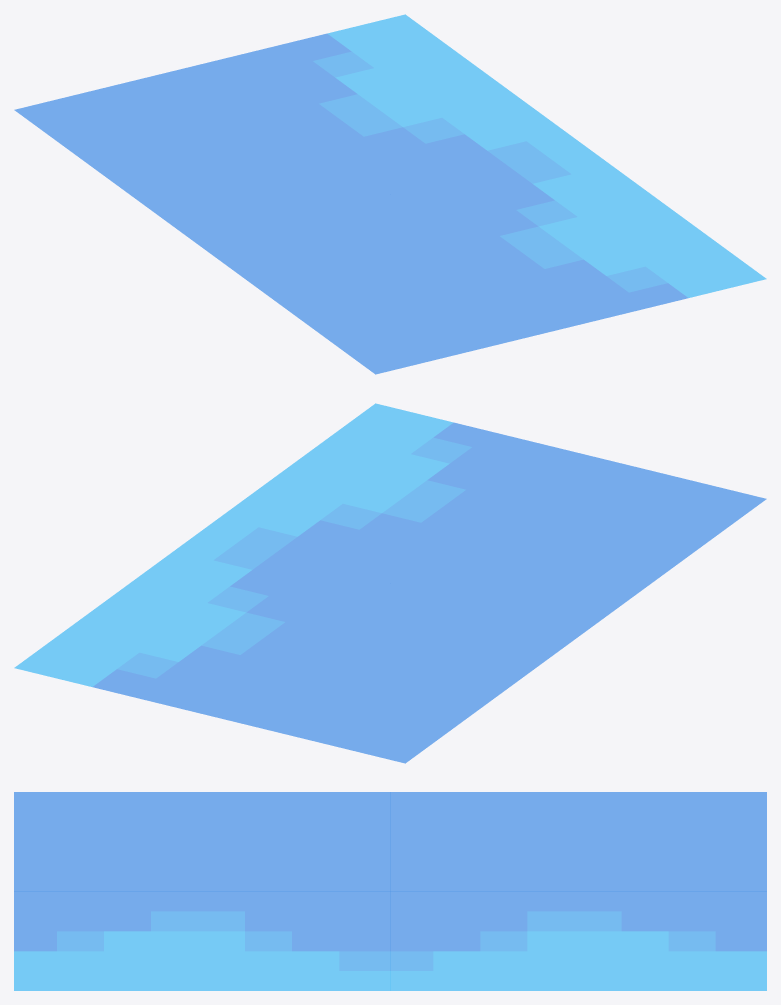
3 views of the same model, one above another, from view 1: azimuth 30°, elevation 25°; view 2: azimuth 150°, elevation 25°; view 3: azimuth 270°, elevation 25° (orthographic). The views are drawn at different scales.
Bounding box in the file's own units: 0.625 × 0 × 1.
1 material, 1 textured.
